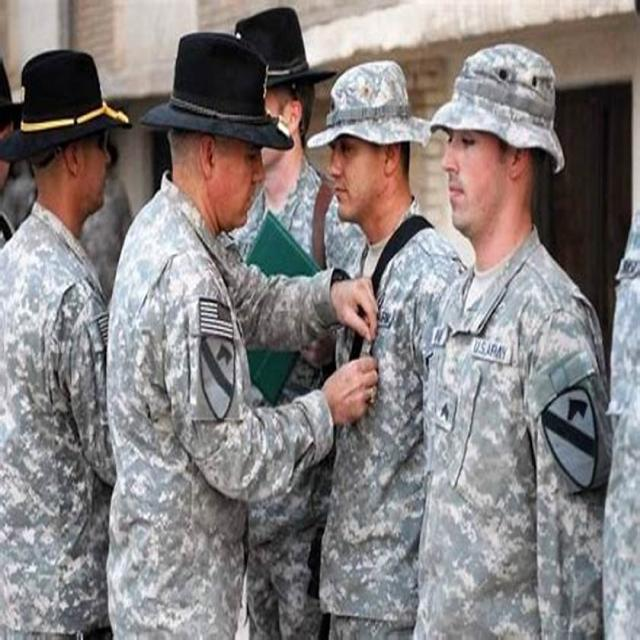illegal_helmet: (136, 24, 298, 236), (430, 40, 567, 241), (0, 46, 136, 228), (302, 55, 438, 228)
